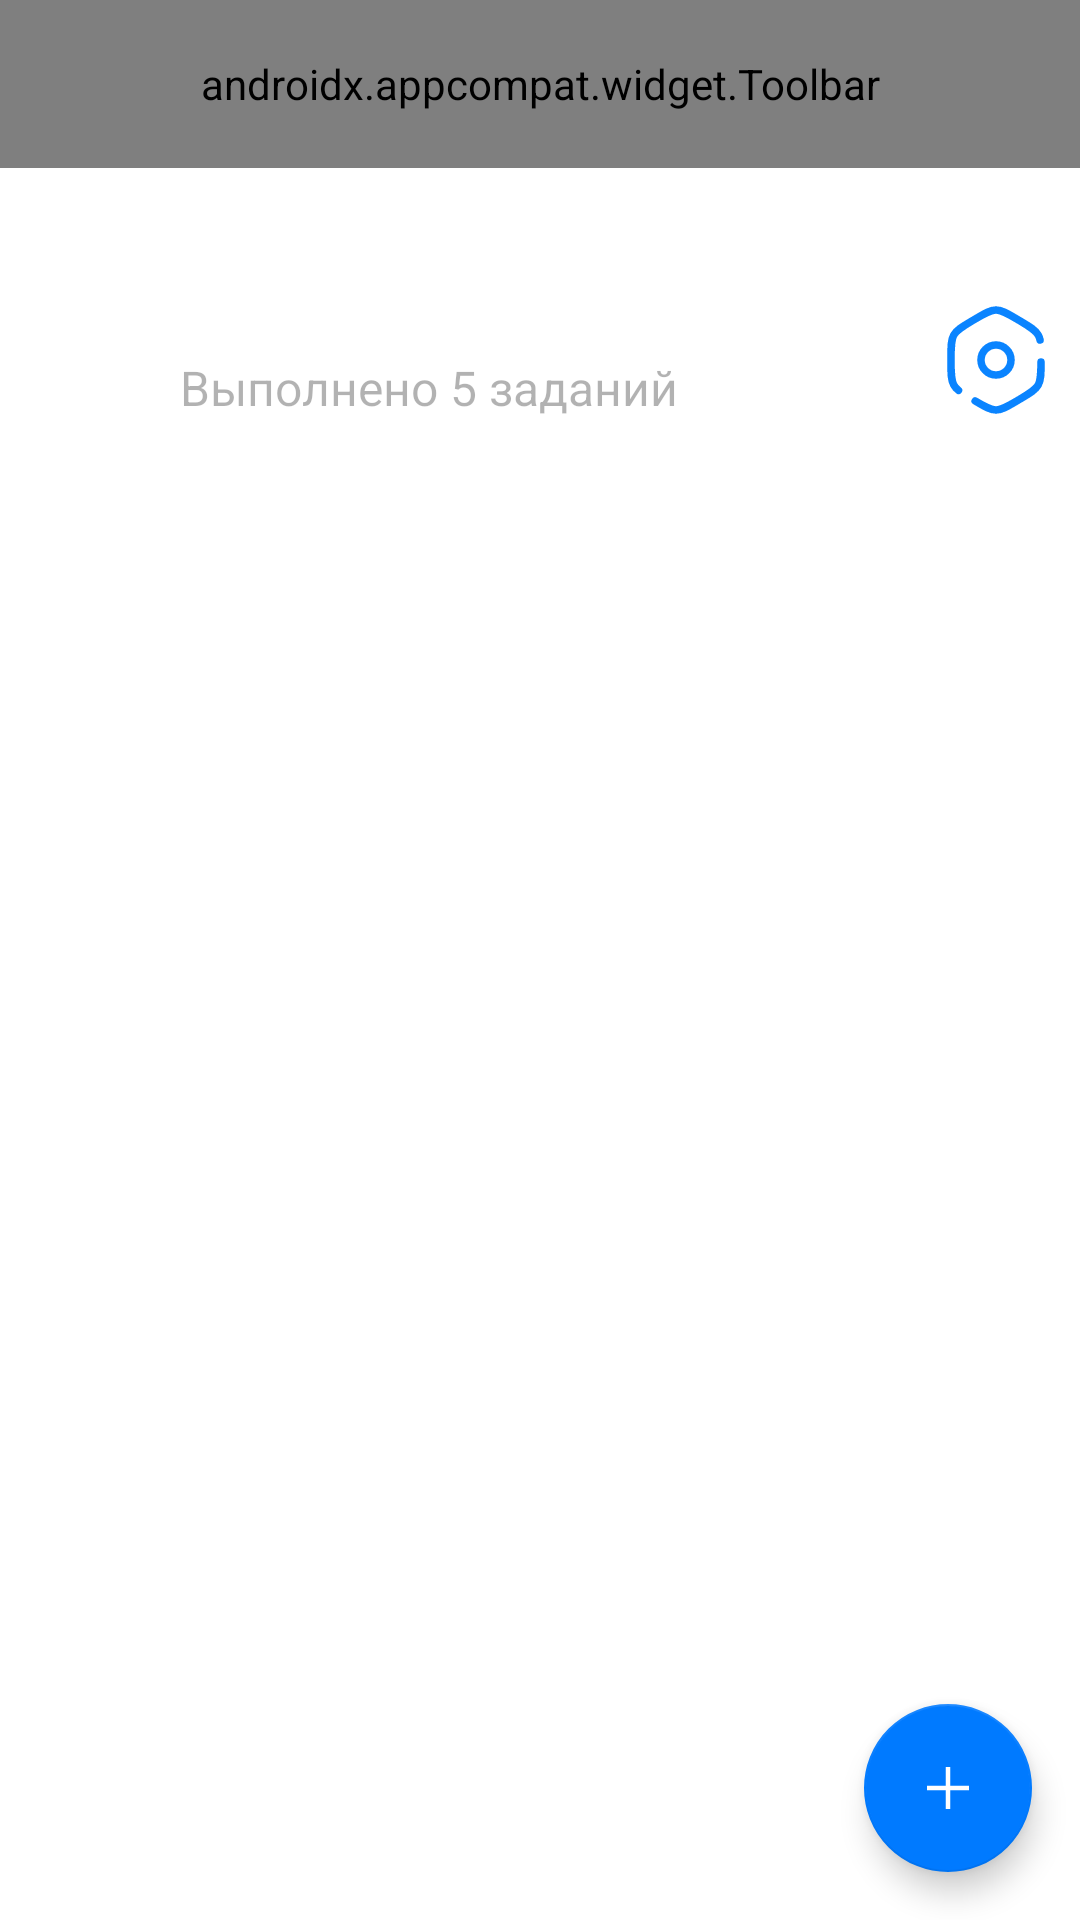

Where icons sit on this 1080px×1920px app screen, as box=[x1, y1, x2, y2]:
add: box=[864, 1704, 1032, 1872]
settings: box=[947, 306, 1045, 414]
